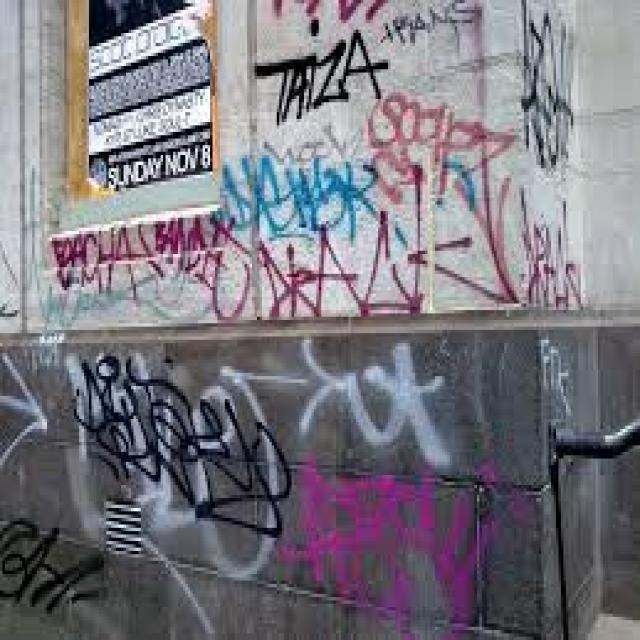-: (0, 342, 446, 638), (276, 453, 534, 640), (262, 151, 522, 312), (73, 356, 289, 539), (371, 86, 514, 193), (222, 148, 380, 238), (52, 214, 233, 282), (0, 516, 112, 622), (253, 32, 385, 120), (520, 12, 580, 172), (518, 190, 586, 302), (41, 283, 182, 325), (370, 1, 492, 46), (264, 0, 388, 23), (542, 344, 580, 412)
